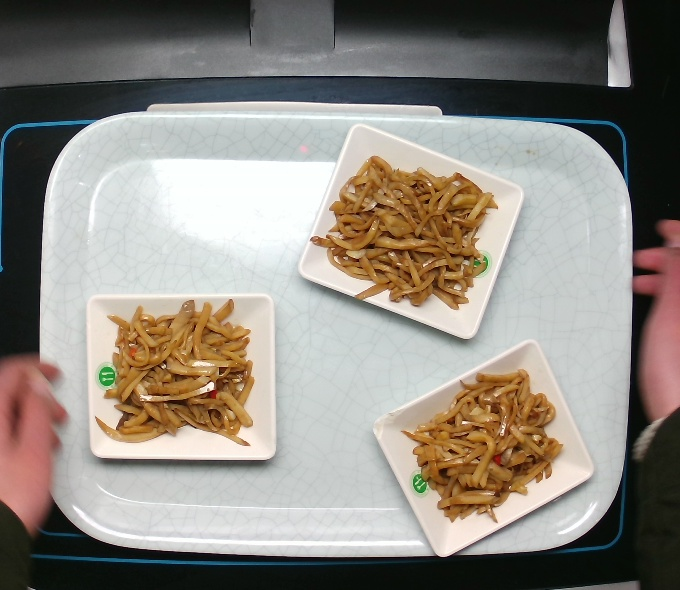wcq-LiangBanMoGu: (306, 152, 501, 314), (397, 365, 569, 527), (91, 295, 259, 452)
